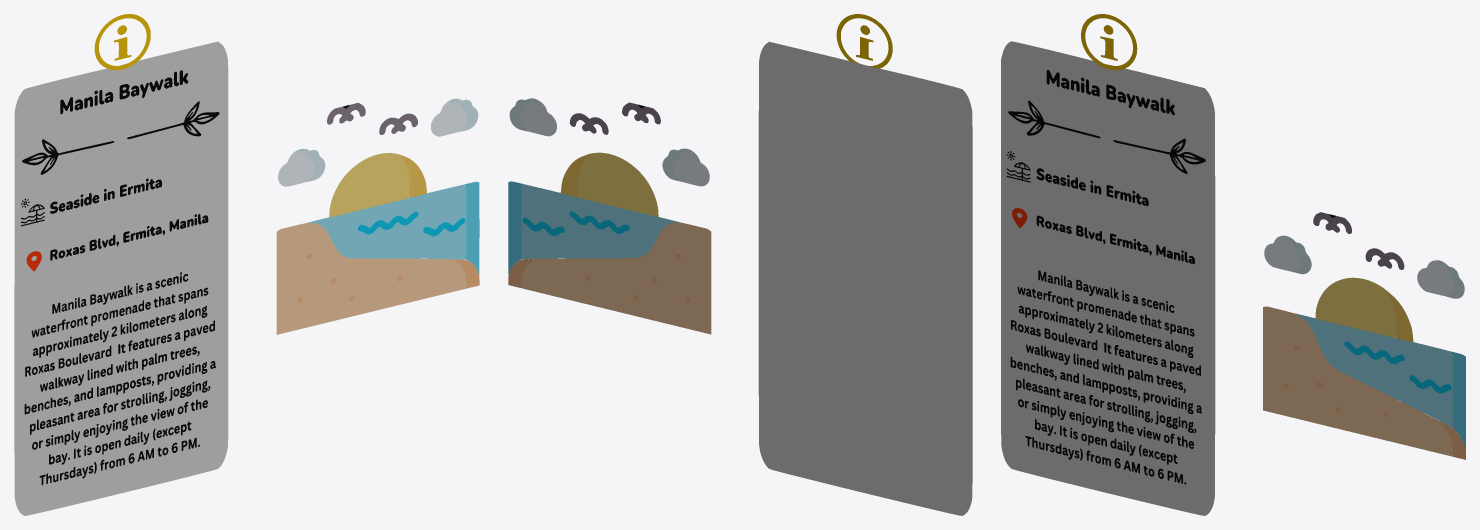
Rendered from BAYWALK.fbx.
3 renders of one model, left to right at view 1: azimuth 30°, elevation 25°; view 2: azimuth 150°, elevation 25°; view 3: azimuth 330°, elevation 25°, orthographic.
Visible parts, largest first — view 1: Curve; view 2: Curve; view 3: Curve.
Part boxes in pixels (x1,y1,x2,y2): Curve: (14,14,479,515); Curve: (508,14,972,515); Curve: (1001,14,1465,515).
Size of the model in its own units: 59.9 by 58.91 by 0.1219.
